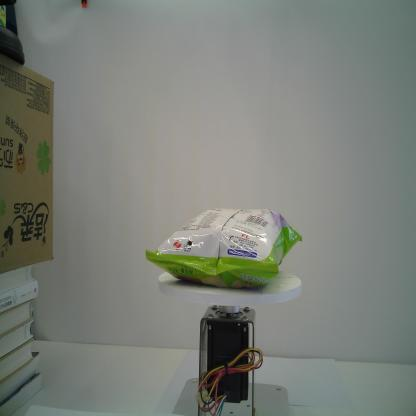Puffed Food: (145, 208, 303, 290)
